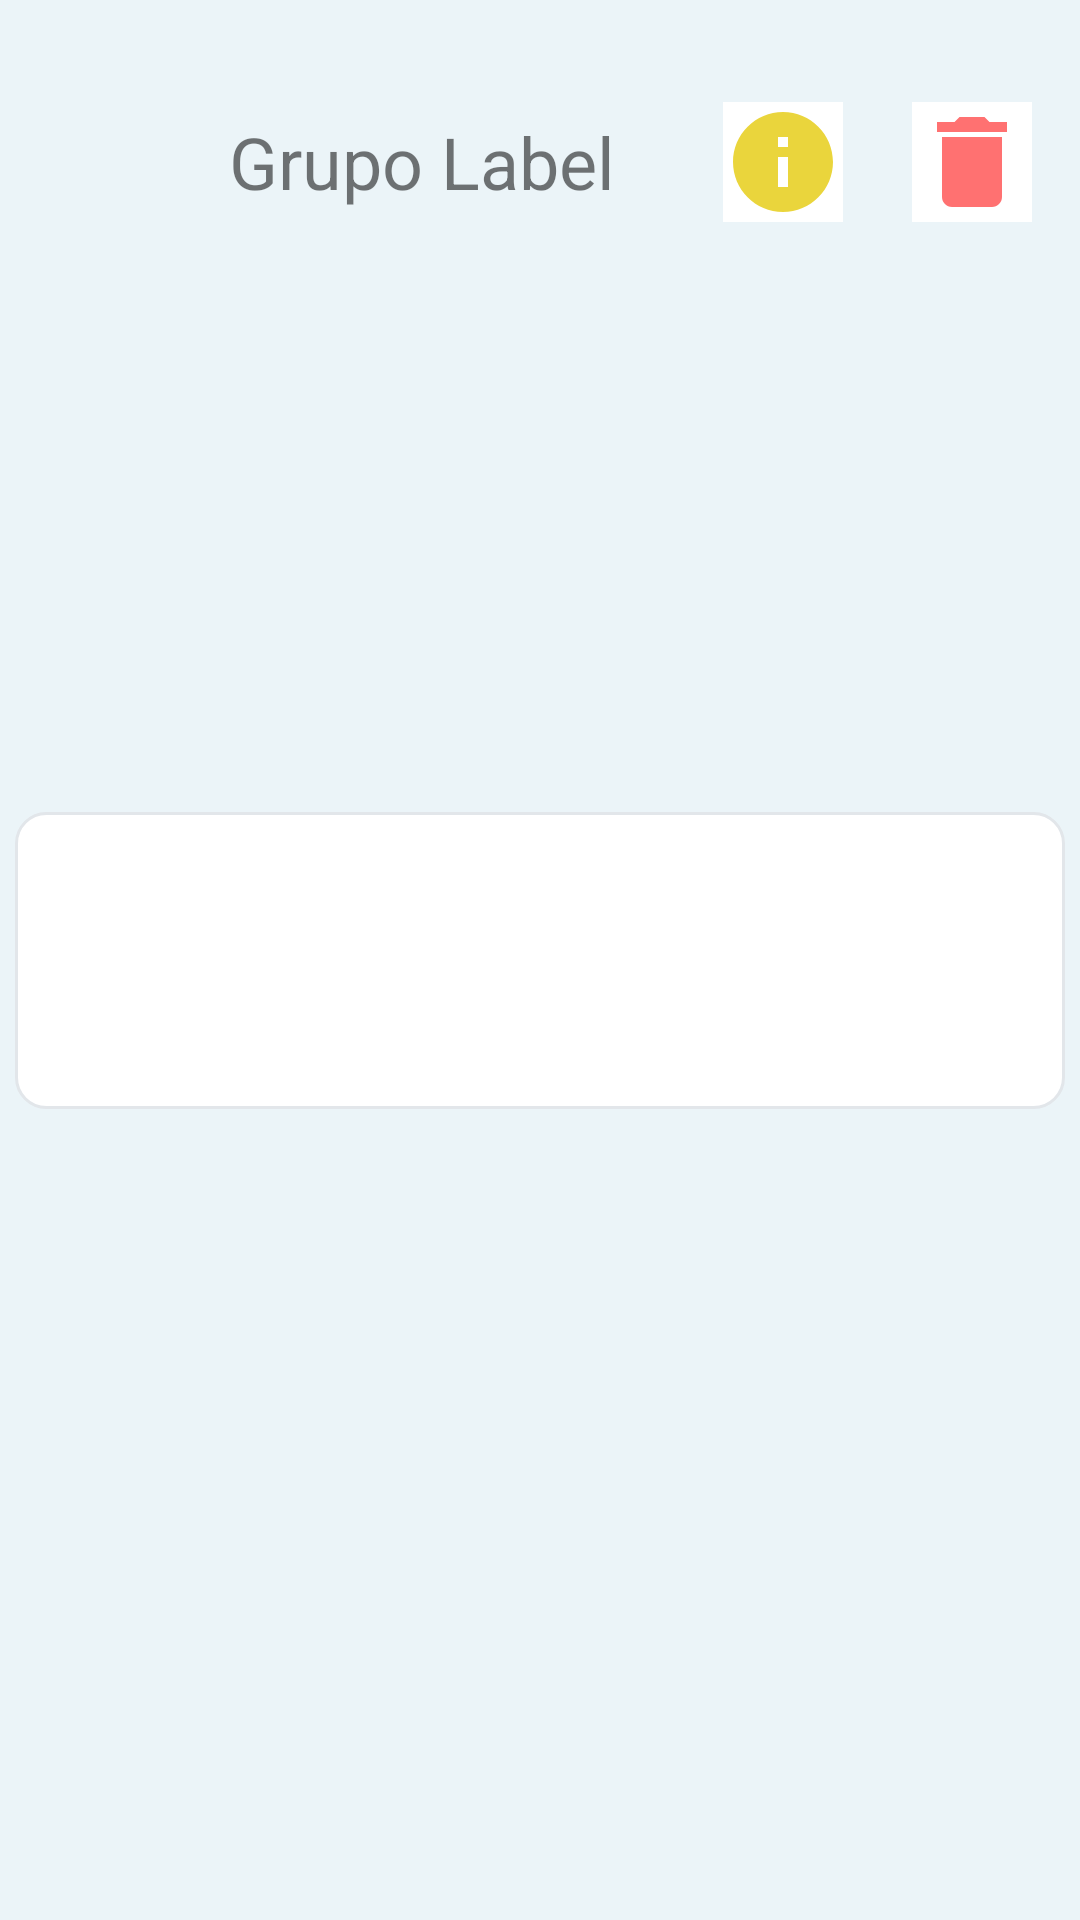

Icons on this 1080w x 1920h Android screen, each with the point to tap as (x=x, y=y):
detail: (x=783, y=162)
